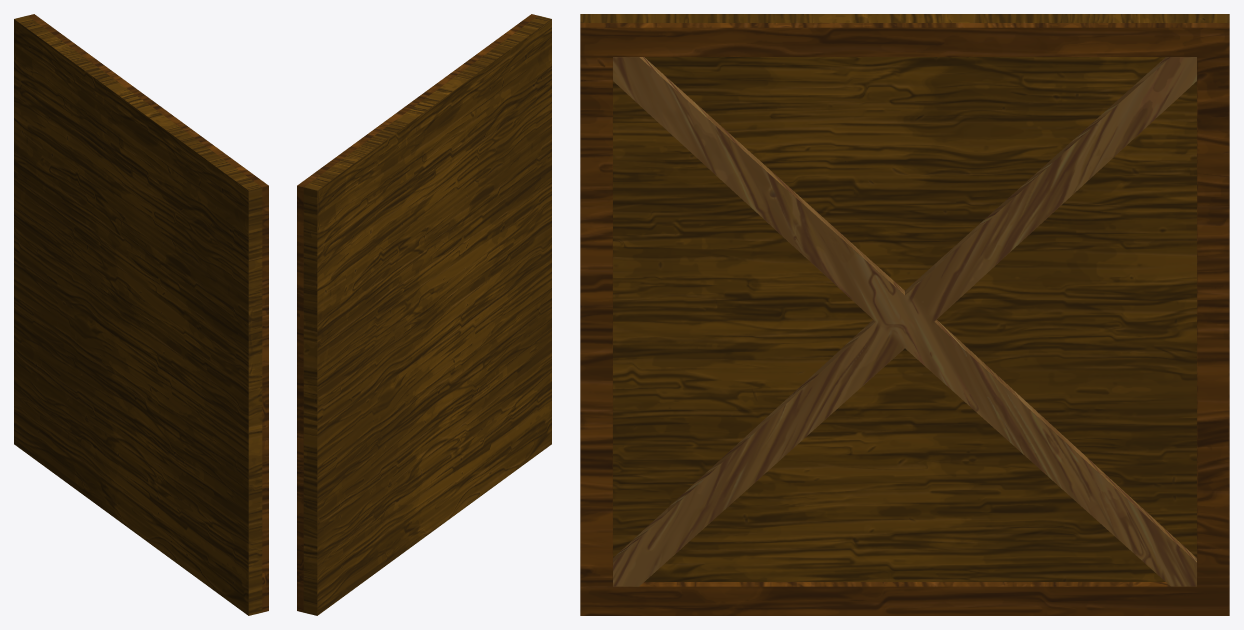
Rendered from C_CrateSides_S01.fbx.
3 views of the same model, side by side, from view 1: azimuth 30°, elevation 25°; view 2: azimuth 150°, elevation 25°; view 3: azimuth 270°, elevation 25° (orthographic). The views are drawn at different scales.
Parts seen in each view (by area): view 1: CrateBack_Small, CrateEdge_Small; view 2: CrateBack_Small, CrateEdge_Small; view 3: CrateBack_Small, CrateEdge_Small, CrateCross_01_Small.
Part boxes in pixels (x1=…): CrateBack_Small: x1=14, y1=15, x2=262, y2=615; CrateEdge_Small: x1=28, y1=14, x2=268, y2=612; CrateBack_Small: x1=303, y1=15, x2=551, y2=615; CrateEdge_Small: x1=297, y1=14, x2=537, y2=612; CrateBack_Small: x1=580, y1=14, x2=1229, y2=581; CrateEdge_Small: x1=580, y1=23, x2=1229, y2=615; CrateCross_01_Small: x1=613, y1=57, x2=1196, y2=586.
Size of the model in its own units: 0.15 by 3 by 3.
